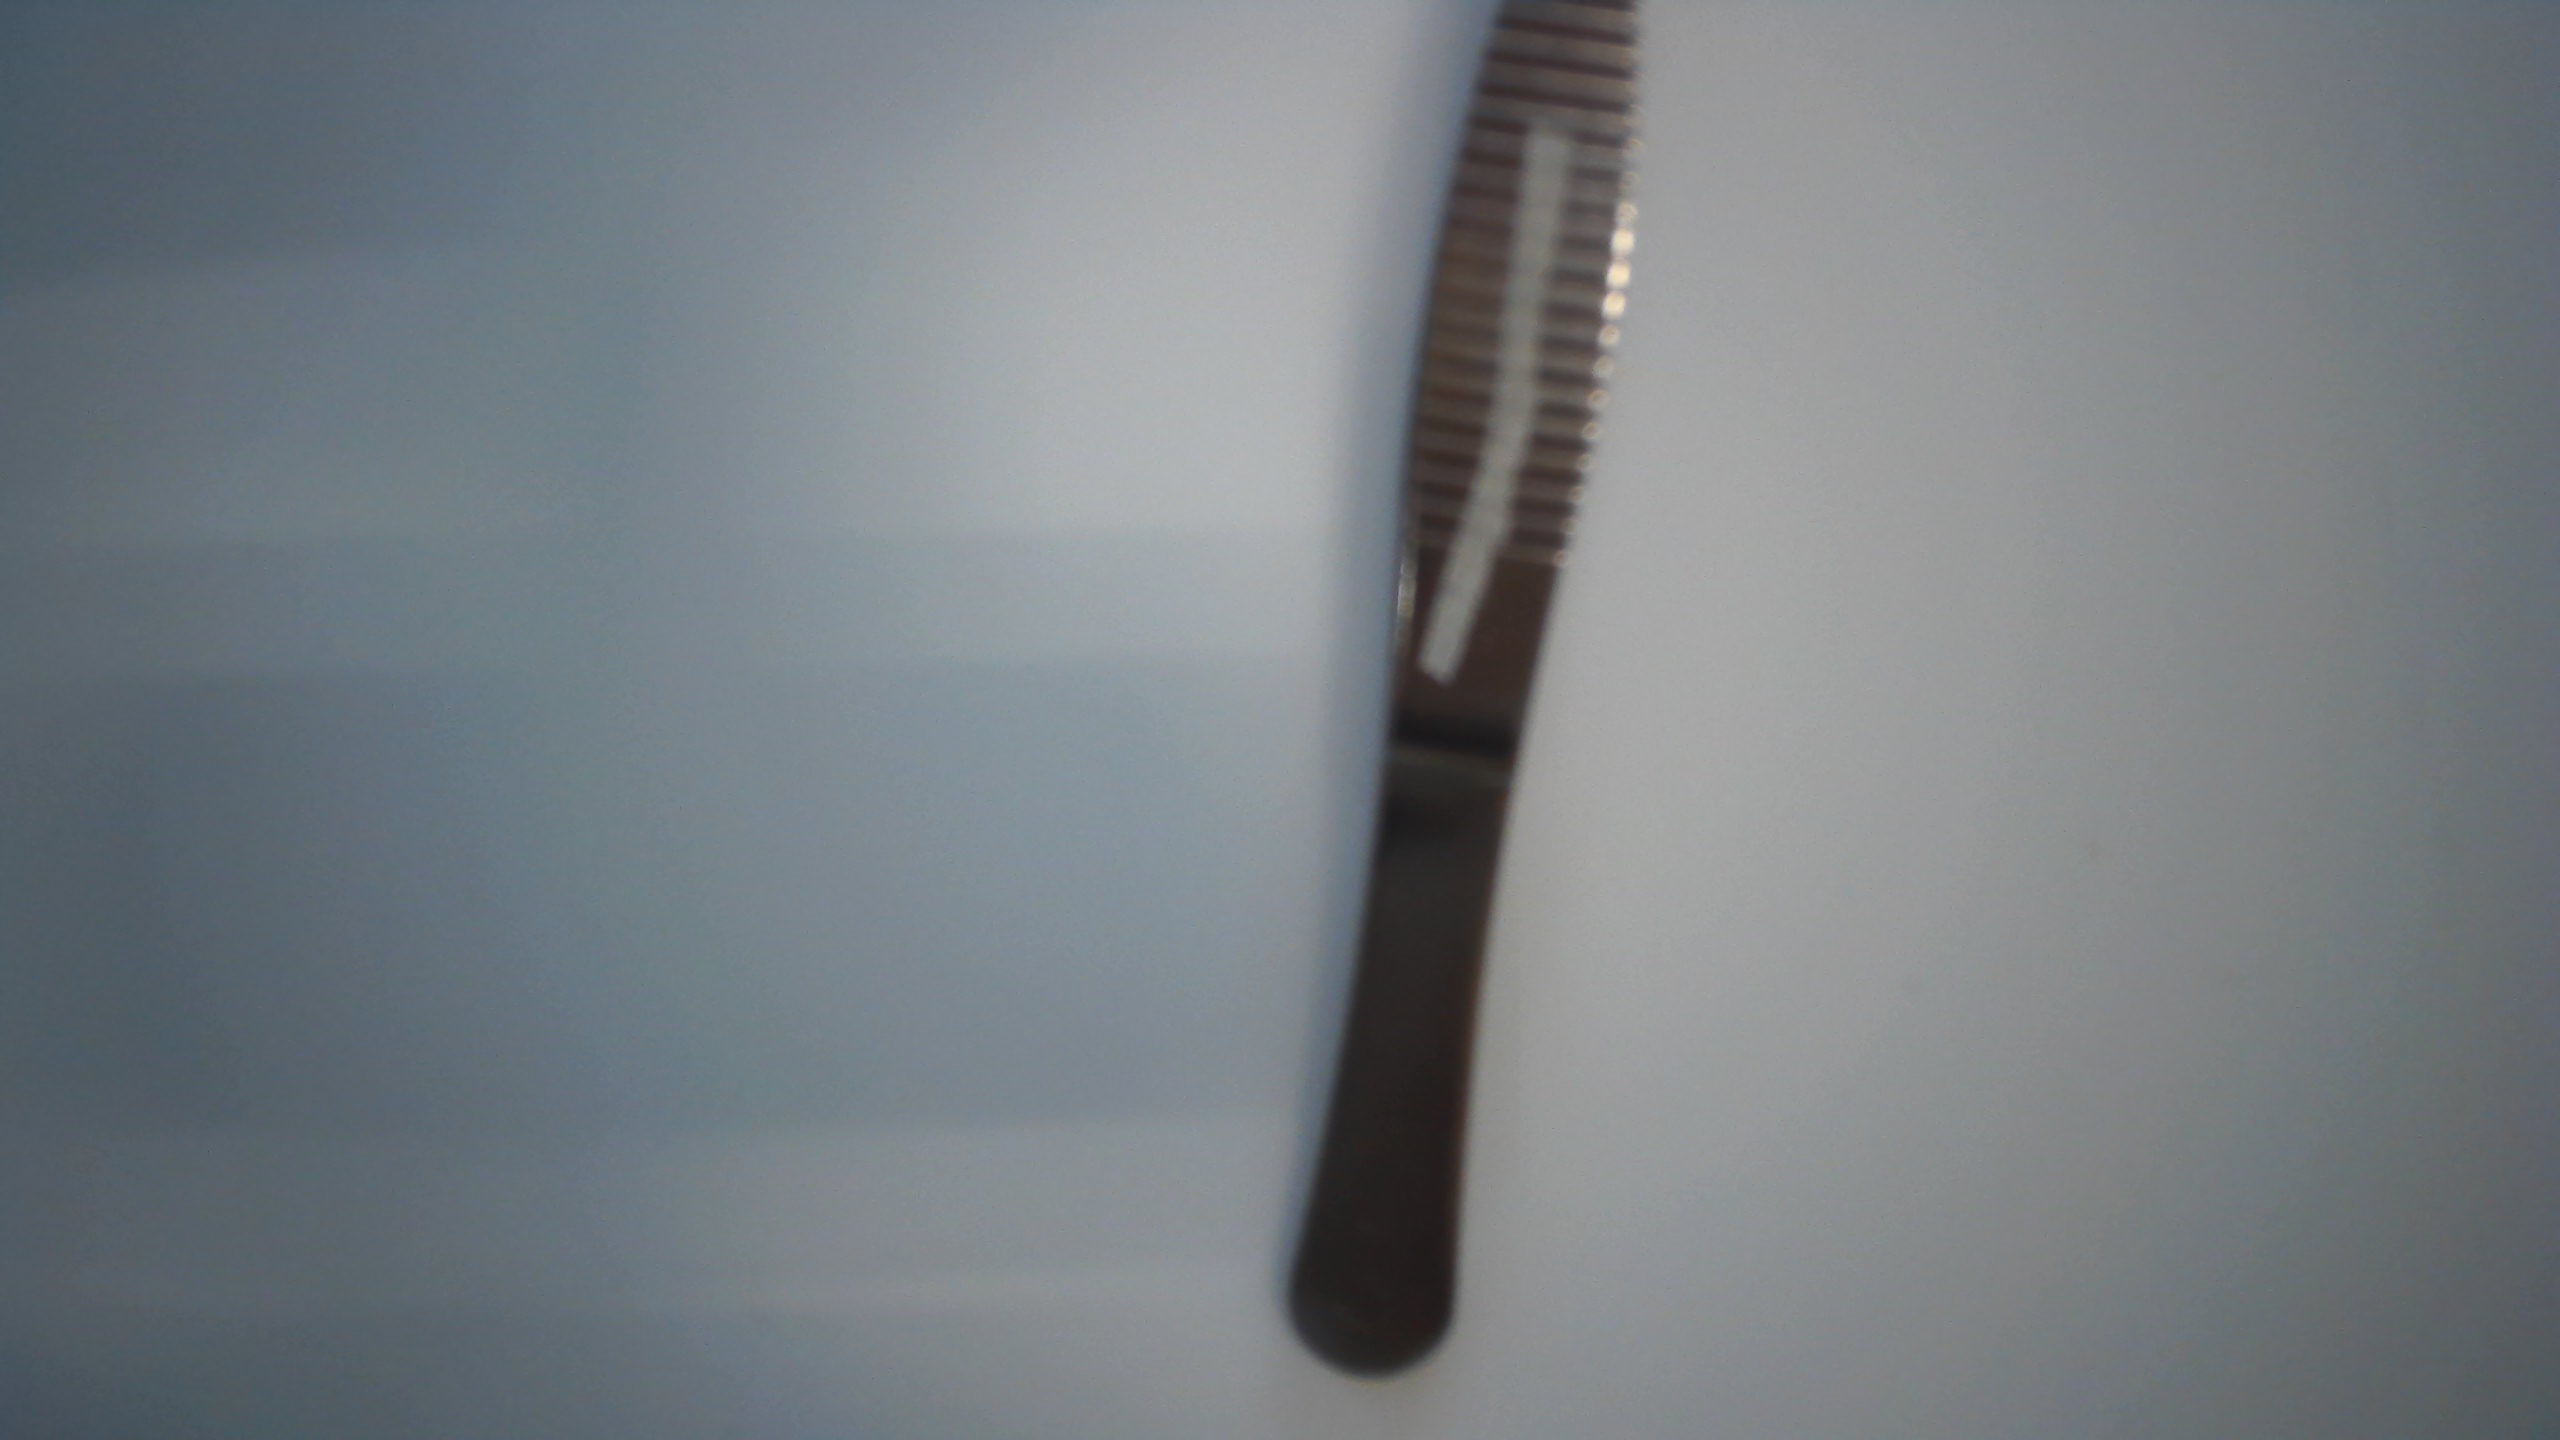Scratches: (1400, 105, 1596, 702)
